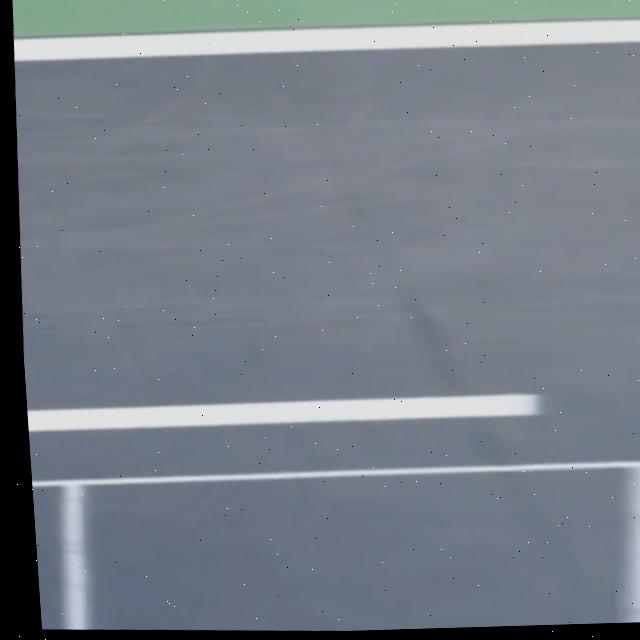center: (27, 394, 539, 432)
right: (12, 19, 640, 61)
